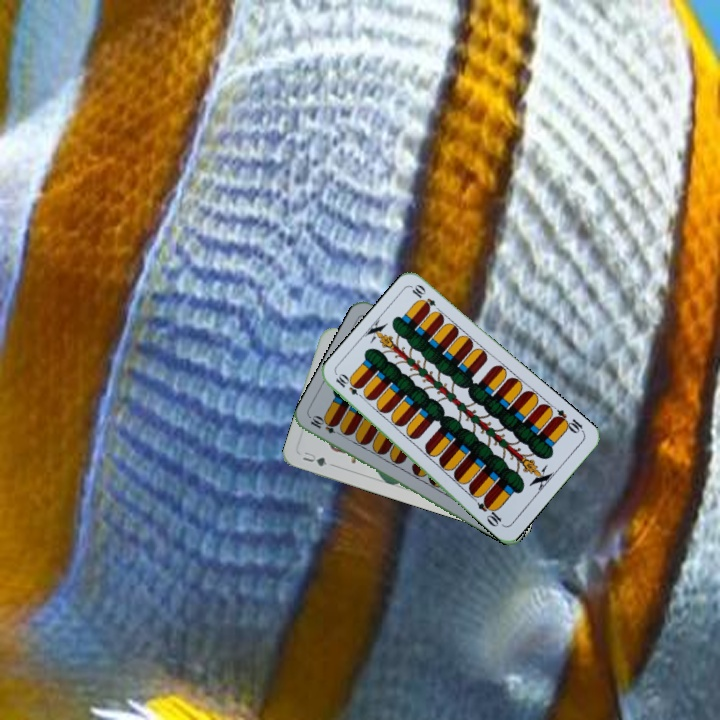E10: (549, 405, 587, 436), (332, 370, 368, 402), (306, 413, 345, 439)
GU: (299, 448, 330, 469)
